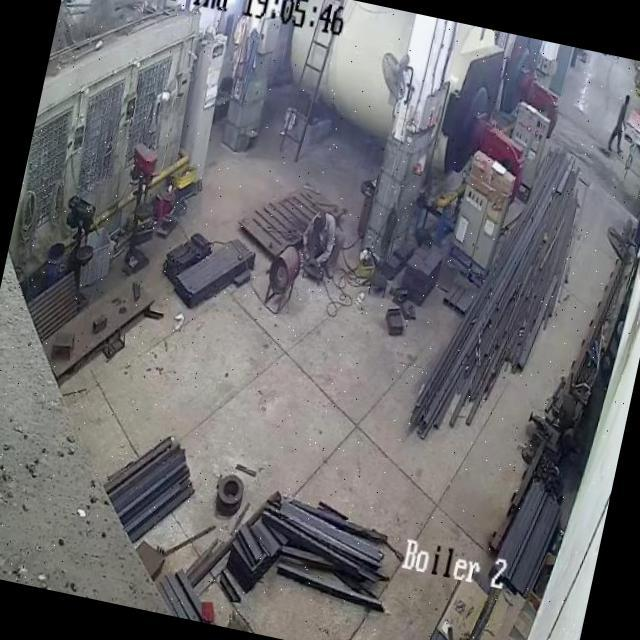person: (298, 206, 340, 278), (606, 94, 633, 160)
